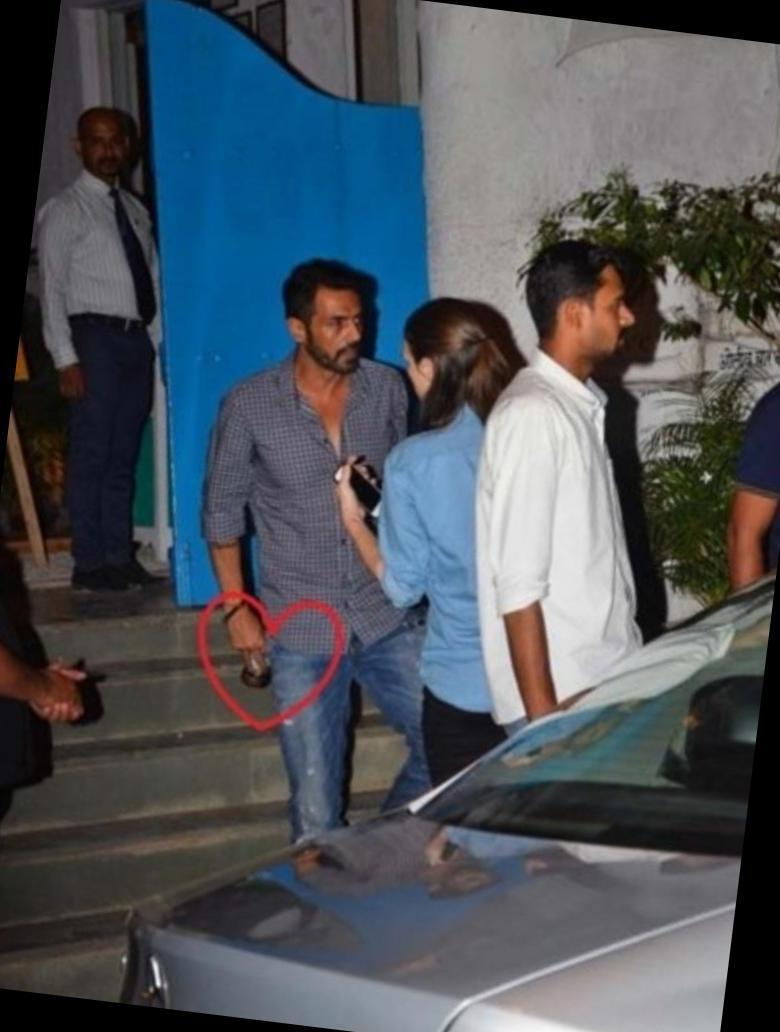Drunk: (308, 286, 367, 371)
